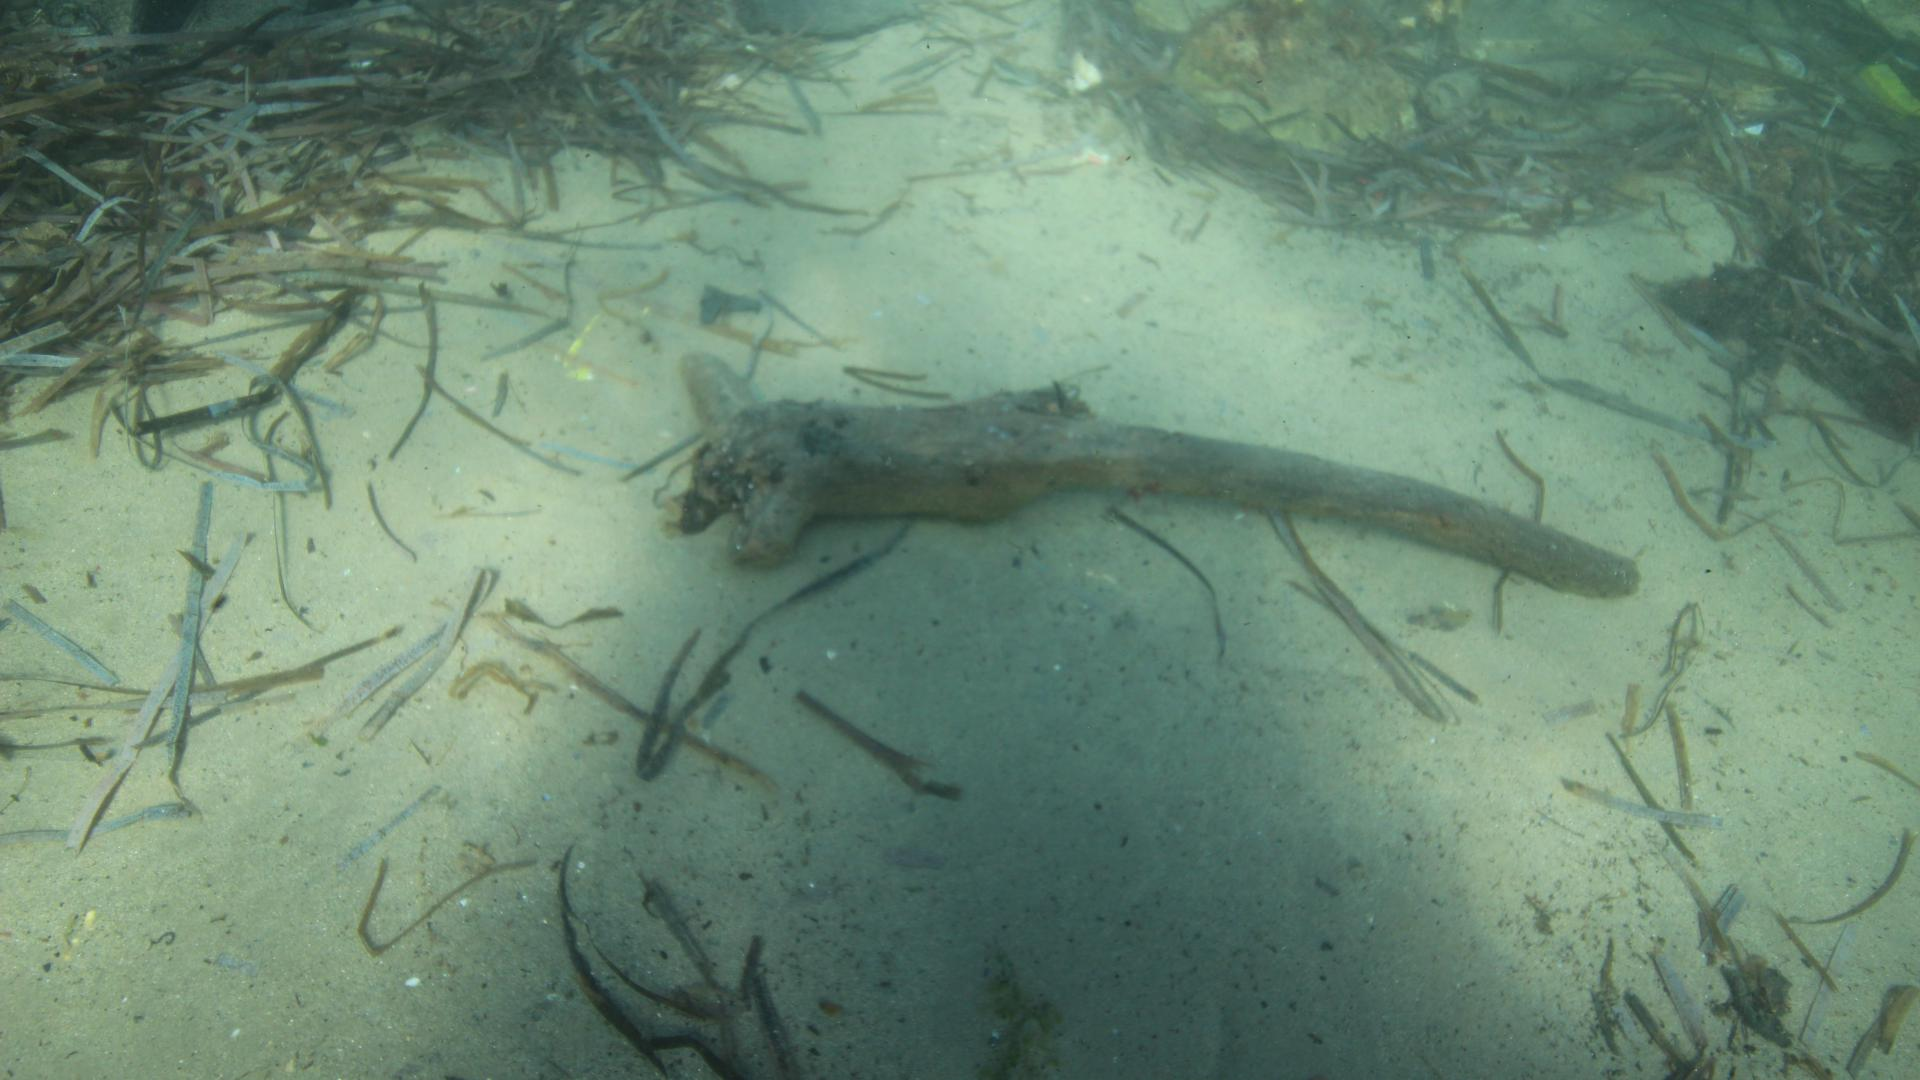wood: (679, 353, 1642, 601)
